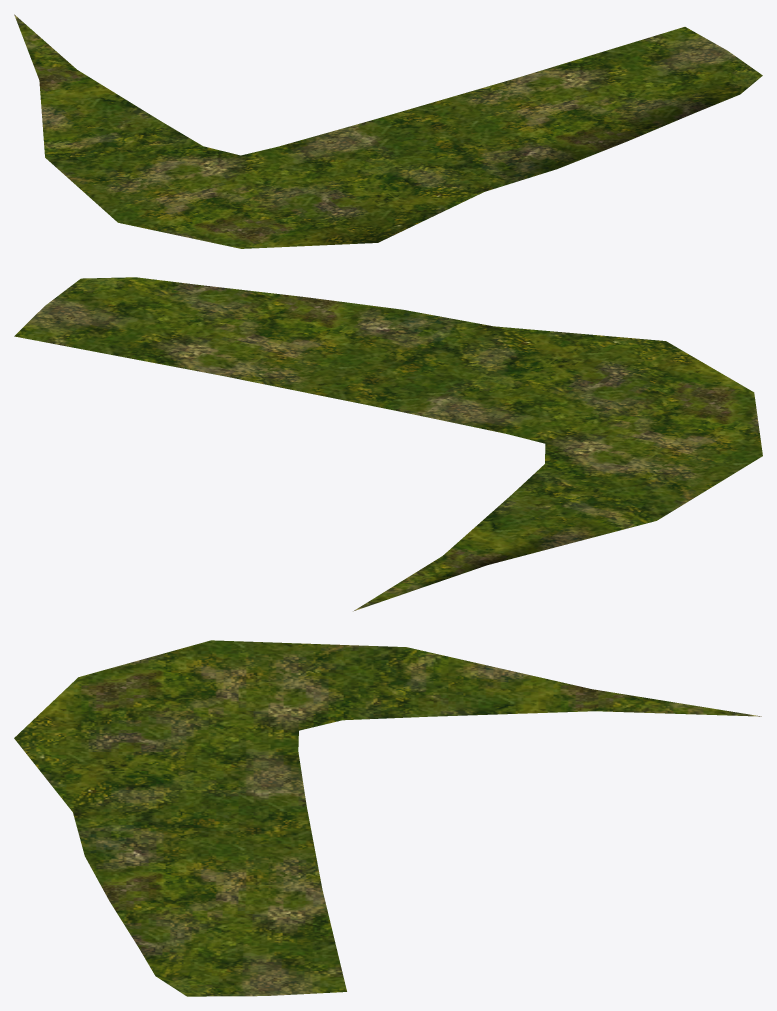
File: OVERHILL_A_01_LINE168.fbx
3 views of the same model, one above another, from view 1: azimuth 30°, elevation 25°; view 2: azimuth 150°, elevation 25°; view 3: azimuth 270°, elevation 25° (orthographic). The views are drawn at different scales.
Parts seen in each view (by area): view 1: OVERHILL_A_01_LINE168; view 2: OVERHILL_A_01_LINE168; view 3: OVERHILL_A_01_LINE168.
Boxes of the visible parts, bbox=[...] form: OVERHILL_A_01_LINE168: bbox=[14, 14, 762, 248]; OVERHILL_A_01_LINE168: bbox=[14, 277, 762, 611]; OVERHILL_A_01_LINE168: bbox=[14, 640, 761, 996].
Bounding box in the file's own units: 52736 × 0.0474 × 46857.
1 material, 1 textured.
